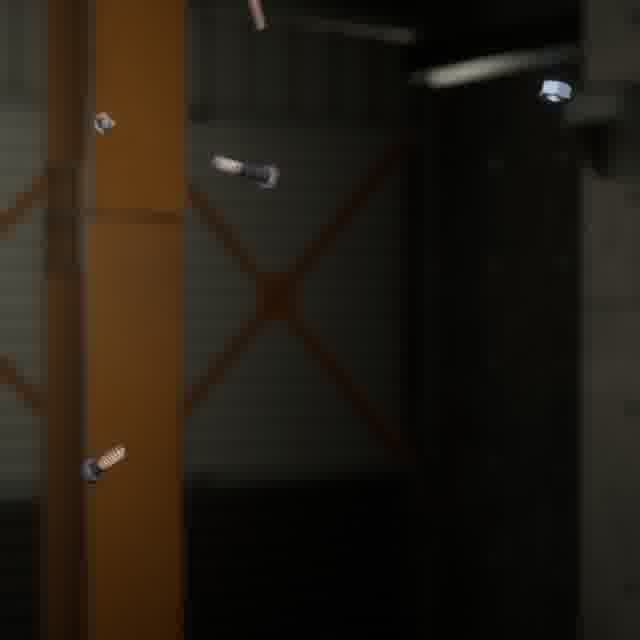bolt: (205, 150, 286, 194), (73, 440, 131, 488), (88, 107, 120, 138), (242, 0, 271, 34)
nut: (535, 75, 576, 107)
